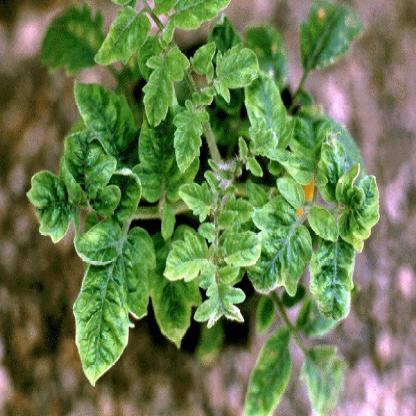Tomato leaf yellow virus: (69, 218, 148, 395), (250, 198, 323, 307), (304, 228, 371, 330), (69, 80, 139, 177), (141, 41, 191, 133), (245, 69, 292, 147), (164, 227, 217, 294), (209, 43, 263, 104), (216, 220, 268, 277)
